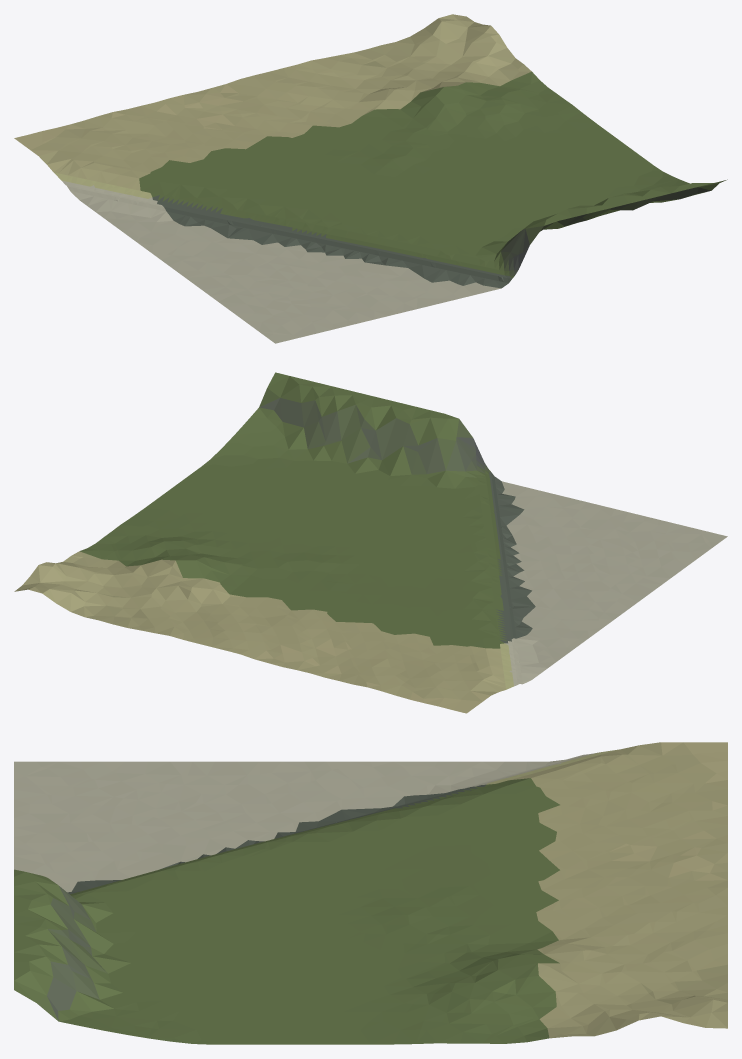
Rendered from Ground_-5_-6.glb.
3 renders of one model, top to bottom at view 1: azimuth 30°, elevation 25°; view 2: azimuth 150°, elevation 25°; view 3: azimuth 270°, elevation 25°, orthographic. The views are drawn at different scales.
Parts seen in each view (by area): view 1: Ground_-5_-6; view 2: Ground_-5_-6; view 3: Ground_-5_-6.
Part boxes in pixels (x1,y1,x2,y2): Ground_-5_-6: (14, 14, 727, 343); Ground_-5_-6: (14, 372, 727, 713); Ground_-5_-6: (14, 742, 727, 1044).
Bounding box in the file's own units: 768 × 87 × 768.
